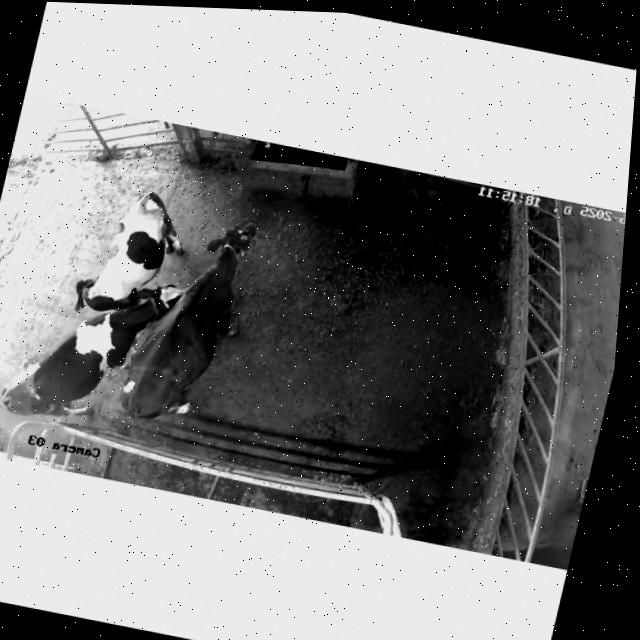stand: (121, 223, 256, 419), (2, 284, 185, 416), (75, 191, 185, 311)
